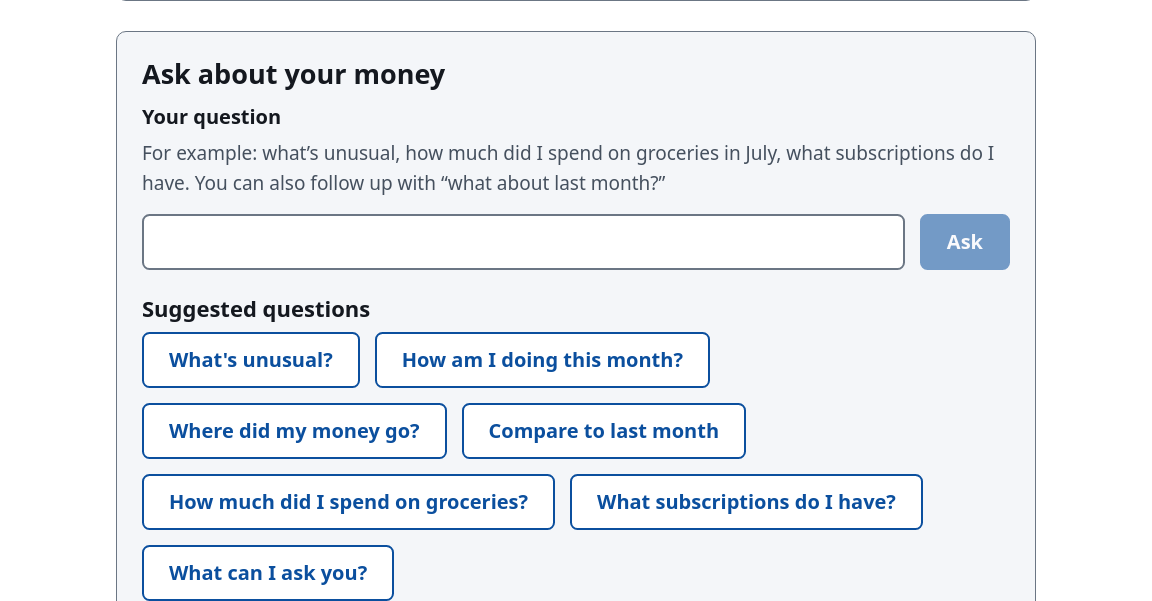
App › sends the typed question to the query endpoint
(page scrolled)
Type "what is unusual" into the field labelled "Your question" at (523, 242), box [142, 214, 905, 270]
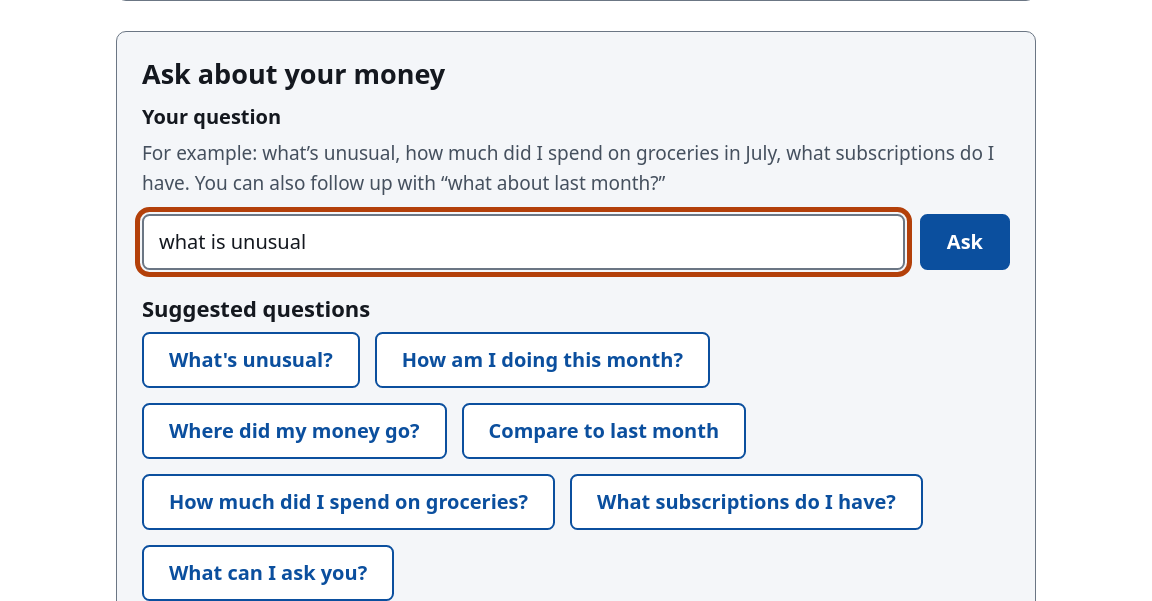
Click the button "Ask" at (965, 242), box [920, 214, 1010, 270]
(page scrolled)
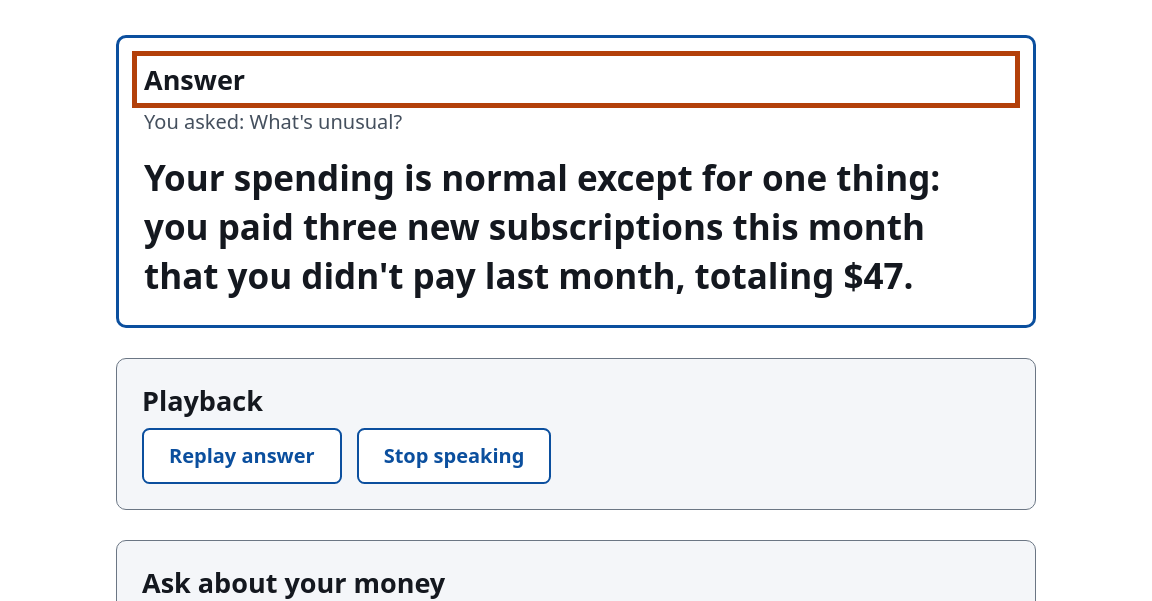
Expected: the text "Your spending is normal except for one thing: you paid three new subscriptions this month that you didn't pay last month" is shown, [144, 154, 940, 299]
